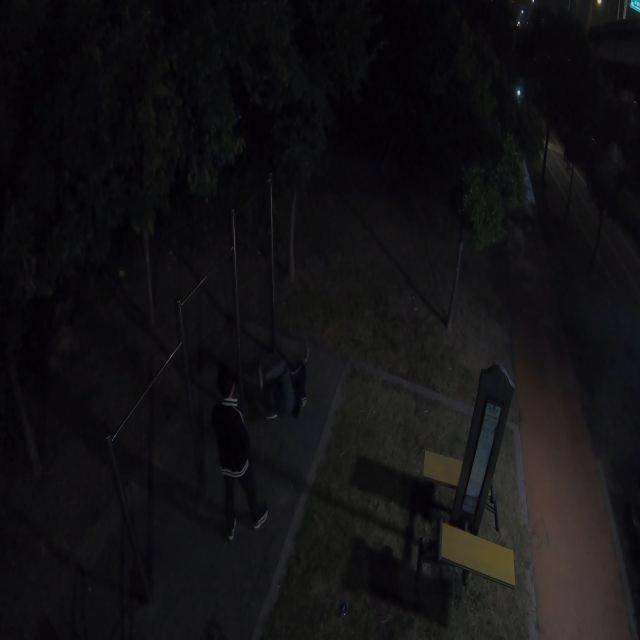fight: (212, 383, 268, 541)
non-fight: (254, 354, 307, 418)
